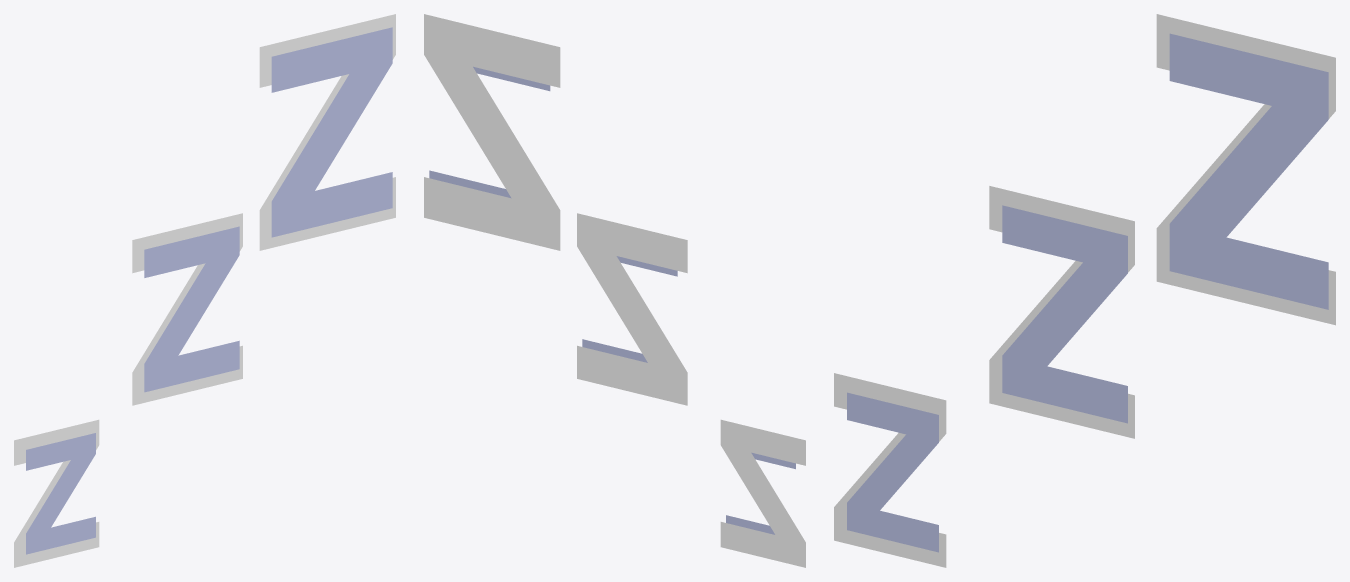
Rendered from zzz.glb.
3 views of the same model, side by side, from view 1: azimuth 30°, elevation 25°; view 2: azimuth 150°, elevation 25°; view 3: azimuth 330°, elevation 25° (orthographic). The views are drawn at different scales.
Bounding box in the file's own units: 2.1 × 2.42 × 0.01.
